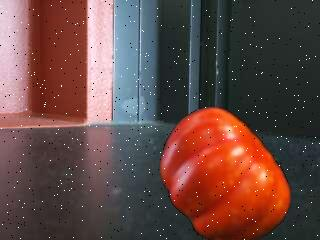Pumpkin: (158, 107, 290, 240)
